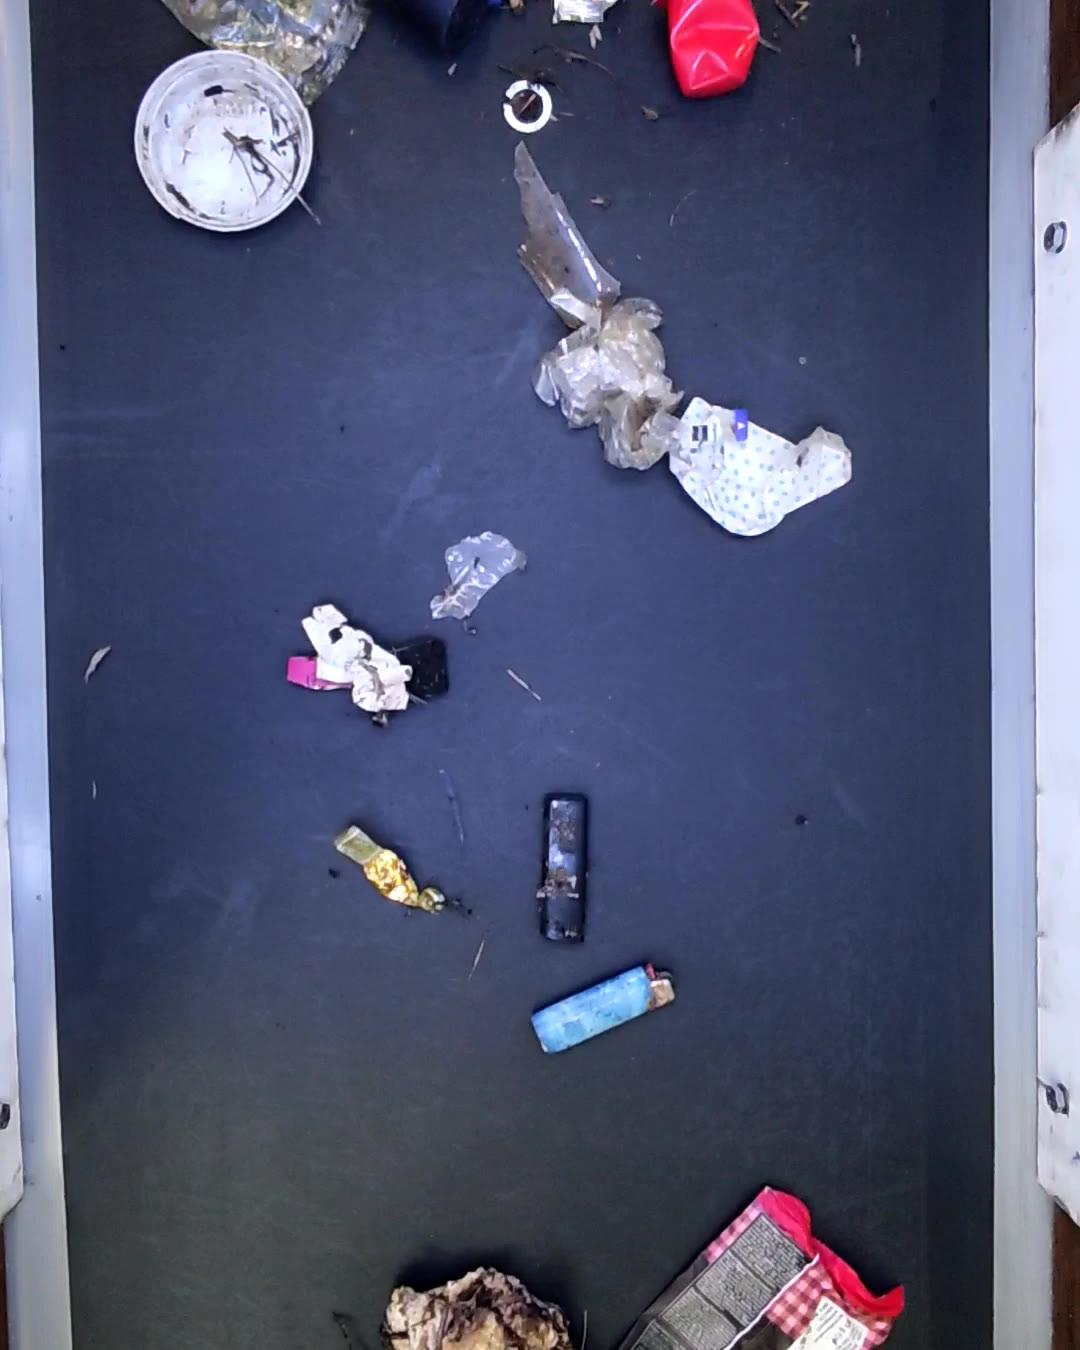Plastic folies of stukken daarvan 2.5- 50 cm: (510, 141, 684, 469), (163, 0, 371, 120), (428, 529, 529, 625)
Snoep snack en chips verpakkingen: (337, 829, 451, 917)
Voedselverpakkingen: (625, 1188, 907, 1350), (648, 0, 758, 100)
